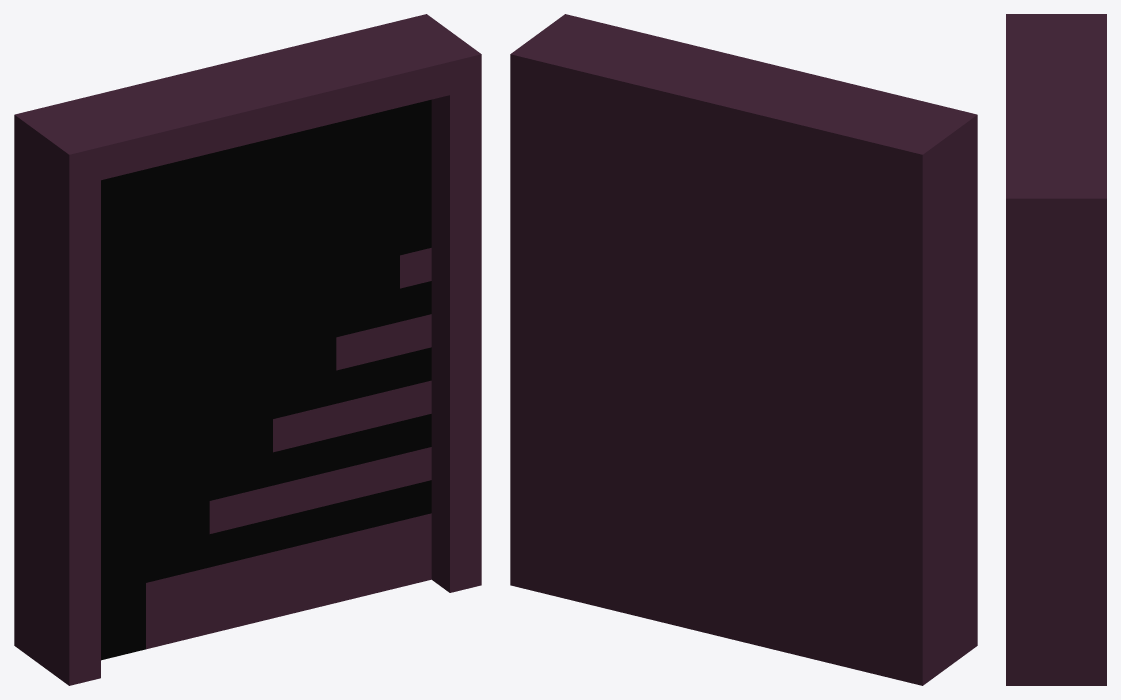
The model's file is dungeon_c_a_entrance_b.obj.
3 views of the same model, side by side, from view 1: azimuth 30°, elevation 25°; view 2: azimuth 150°, elevation 25°; view 3: azimuth 270°, elevation 25° (orthographic). The views are drawn at different scales.
Size of the model in its own units: 1.3 by 1.6 by 0.3.
1 material, 1 textured.
